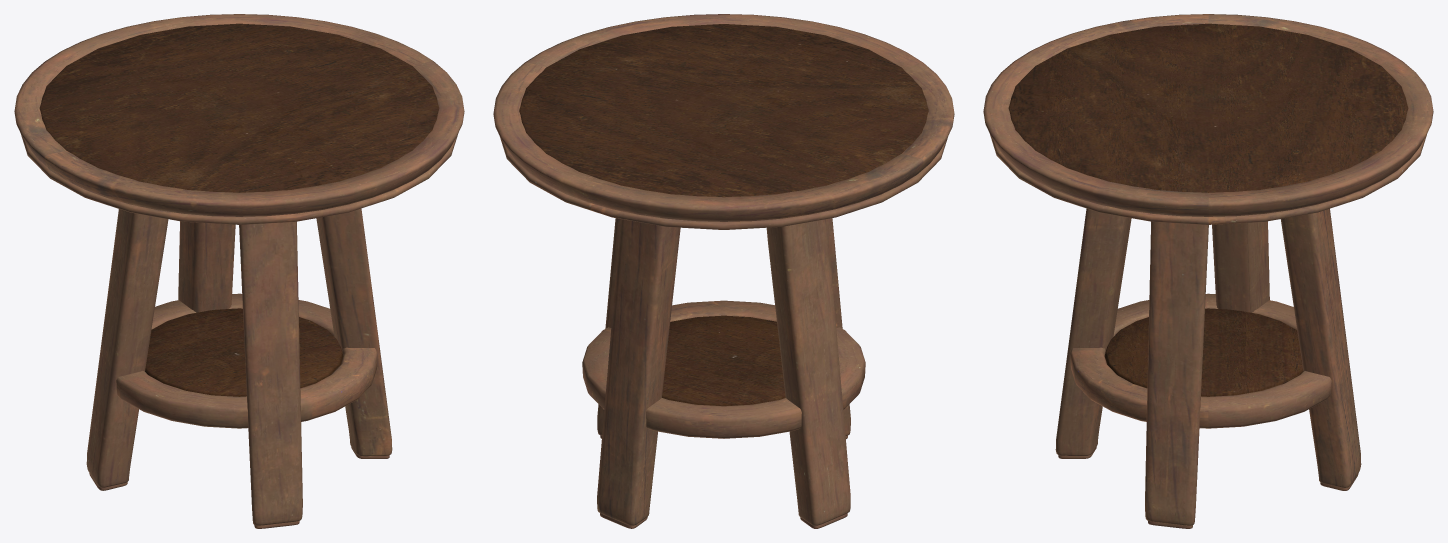
The model's file is Low Table.fbx.
3 views of the same model, side by side, from view 1: azimuth 30°, elevation 25°; view 2: azimuth 150°, elevation 25°; view 3: azimuth 270°, elevation 25° (orthographic). The views are drawn at different scales.
Parts seen in each view (by area): view 1: low:Mesh; view 2: low:Mesh; view 3: low:Mesh.
Part boxes in pixels (bbox=[...]): low:Mesh: bbox=[14, 14, 464, 528]; low:Mesh: bbox=[493, 14, 954, 528]; low:Mesh: bbox=[983, 14, 1433, 528].
Size of the model in its own units: 3.54 by 3.12 by 3.54.
1 material, 1 textured.
